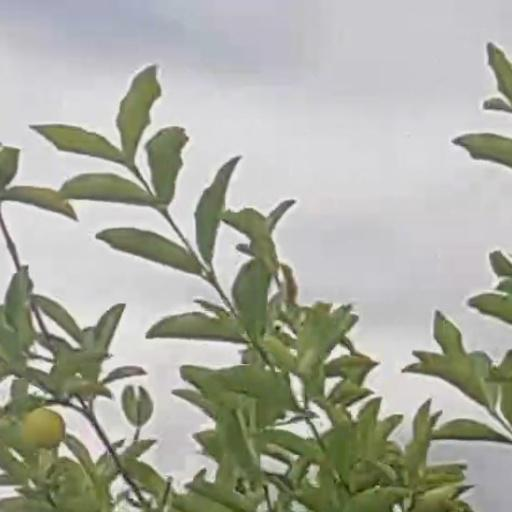acerola: (24, 407, 65, 450)
